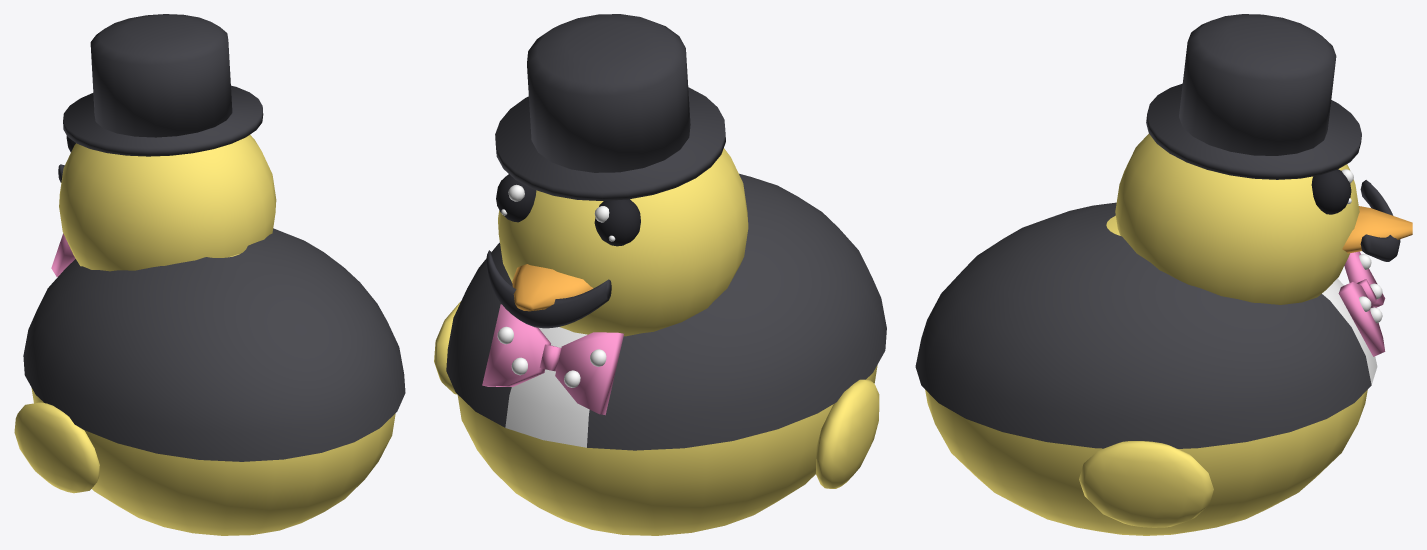
The model's file is Duck.glb.
The picture shows the model from 3 angles, left to right: view 1: azimuth 30°, elevation 25°; view 2: azimuth 150°, elevation 25°; view 3: azimuth 270°, elevation 25°; orthographic projection. The views are drawn at different scales.
Parts seen in each view (by area): view 1: Hat_Brim; view 2: Hat_Brim; view 3: Hat_Brim.
Part boxes in pixels (left/top/right/bottom): Hat_Brim: left=14, top=14, right=405, bottom=535; Hat_Brim: left=434, top=14, right=886, bottom=535; Hat_Brim: left=915, top=14, right=1412, bottom=535.
Bounding box in the file's own units: 2.65 × 3.2 × 2.99.
